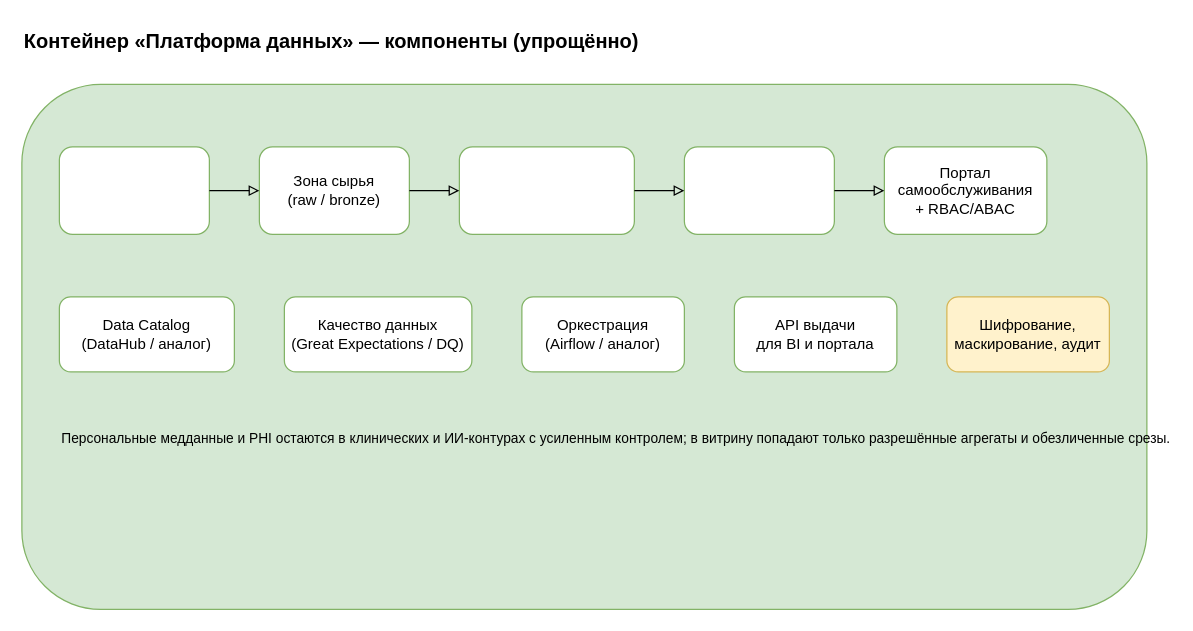
Image size: 1193x631. Some labels were removed from this diagram. The centre of each missing label's shape, as x and y in pixels:
"Ingestion (batch + CDC + streaming)" goes at point 133,190.
"Курируемые слои (silver / gold), доменные витрины" goes at point 546,190.
"Семантический слой / метрики" goes at point 758,190.
